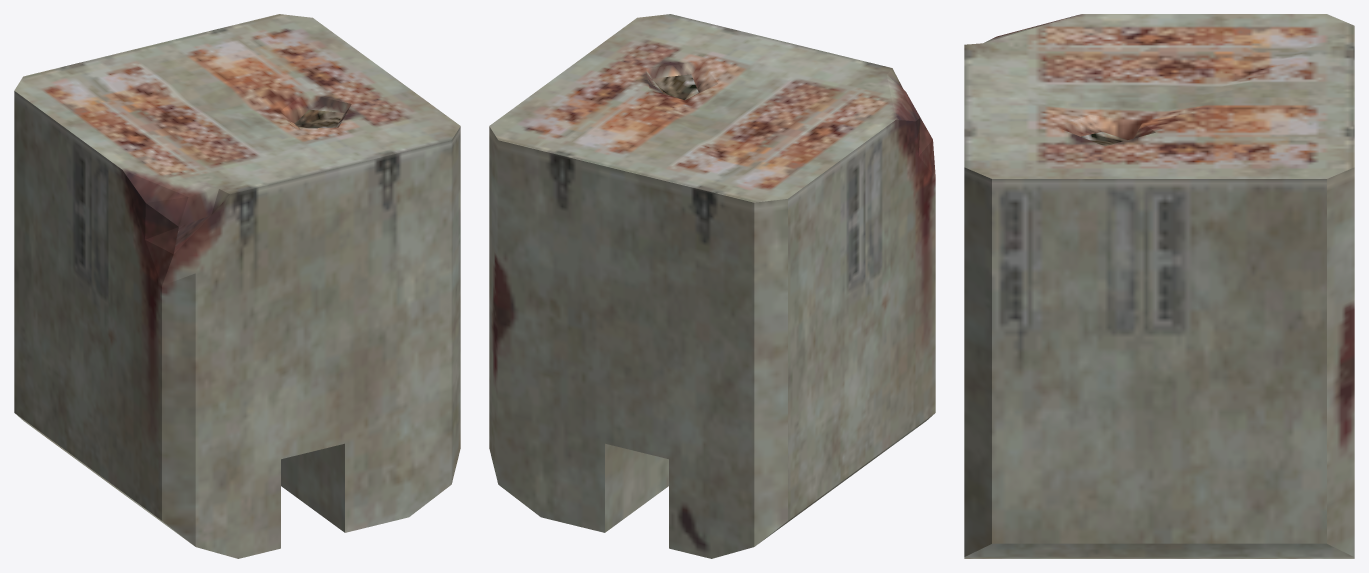
File: thm_tato_debris_s09_l1.fbx
The picture shows the model from 3 angles, left to right: view 1: azimuth 30°, elevation 25°; view 2: azimuth 150°, elevation 25°; view 3: azimuth 270°, elevation 25°; orthographic projection. The views are drawn at different scales.
Visible parts, largest first — view 1: mesh_node; view 2: mesh_node; view 3: mesh_node.
Part boxes in pixels (bbox=[...]): mesh_node: bbox=[14, 14, 460, 558]; mesh_node: bbox=[489, 14, 935, 558]; mesh_node: bbox=[964, 14, 1354, 558].
Bounding box in the file's own units: 0.9851 × 1.16 × 0.9851.
Materials: 1 (1 with a texture image).
